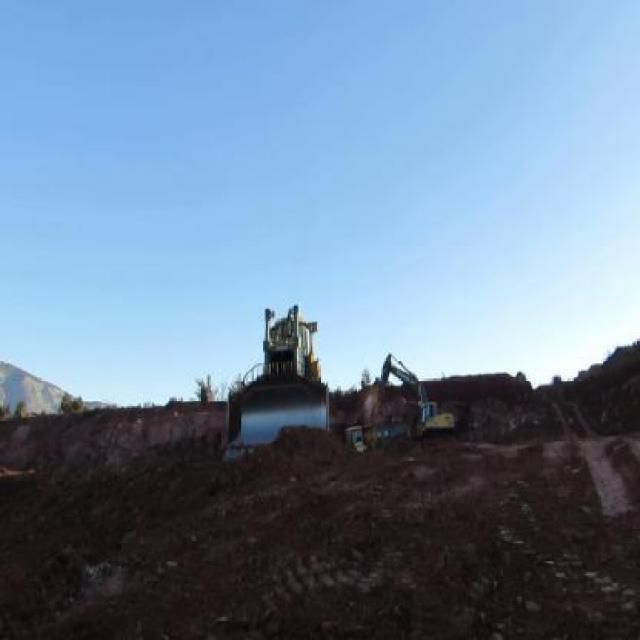Excavator: (366, 356, 456, 438)
